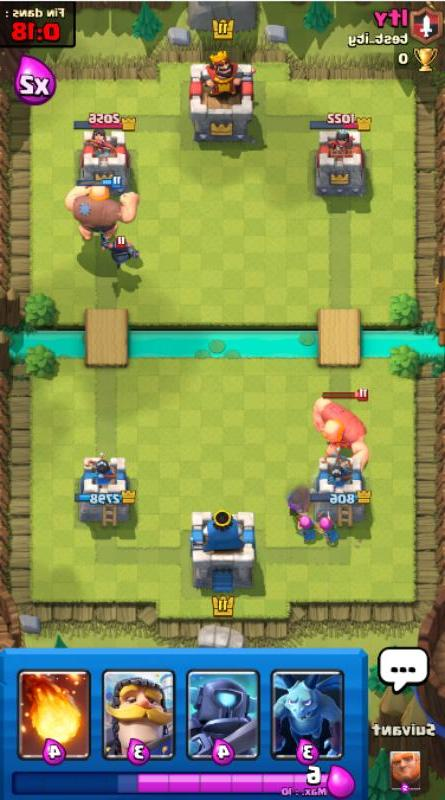archere: (316, 510, 340, 546), (295, 510, 319, 543)
geant: (311, 388, 371, 476), (63, 175, 140, 240)
mini_PEKKA: (98, 230, 140, 270)
mousquetaire: (287, 488, 317, 519)
